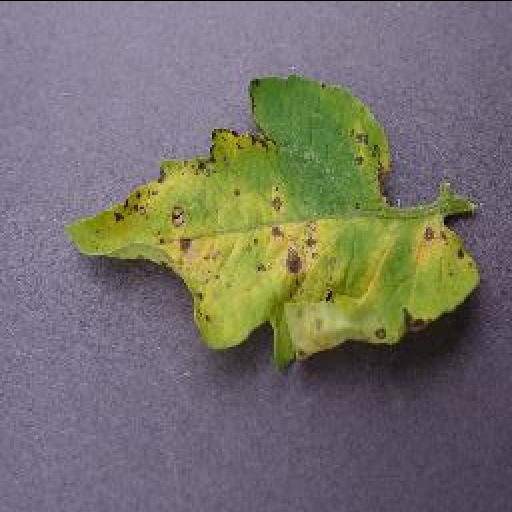disease_tomato: (63, 77, 485, 374)
